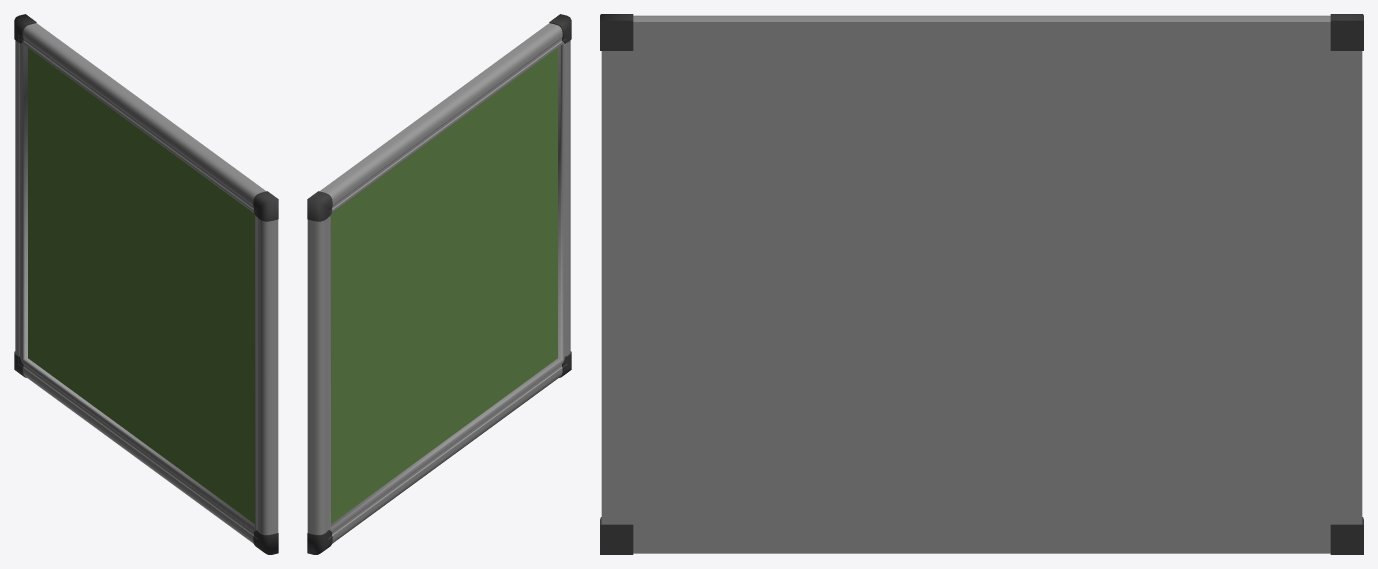
File: CorkBoard.fbx
The picture shows the model from 3 angles, left to right: view 1: azimuth 30°, elevation 25°; view 2: azimuth 150°, elevation 25°; view 3: azimuth 270°, elevation 25°; orthographic projection. The views are drawn at different scales.
Parts seen in each view (by area): view 1: Box001; view 2: Box001; view 3: Box001.
Part boxes in pixels (<box>): Box001: <box>14,14,278,554</box>; Box001: <box>307,14,571,554</box>; Box001: <box>600,14,1363,554</box>.
Bounding box in the file's own units: 2.15 × 50.76 × 65.76.
